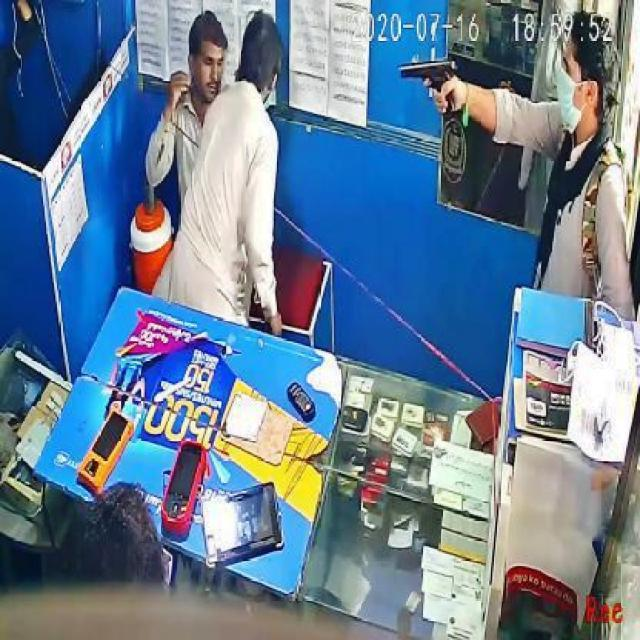Gun: (396, 58, 468, 111)
